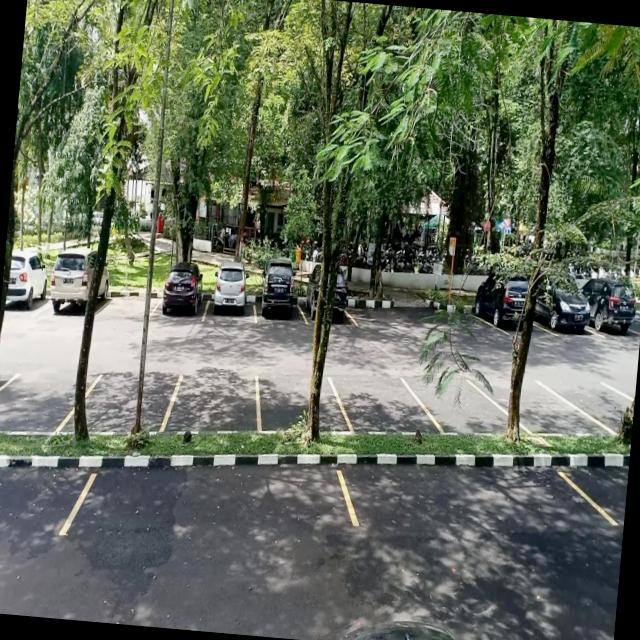empty: (70, 448, 348, 556), (337, 452, 617, 554), (170, 362, 259, 439), (81, 365, 174, 438), (412, 370, 506, 439), (0, 361, 78, 439), (337, 372, 425, 438), (254, 371, 342, 435), (496, 380, 587, 440), (102, 280, 156, 322)
occupied: (40, 260, 110, 321), (254, 266, 305, 327), (206, 264, 258, 323), (152, 274, 208, 324)
